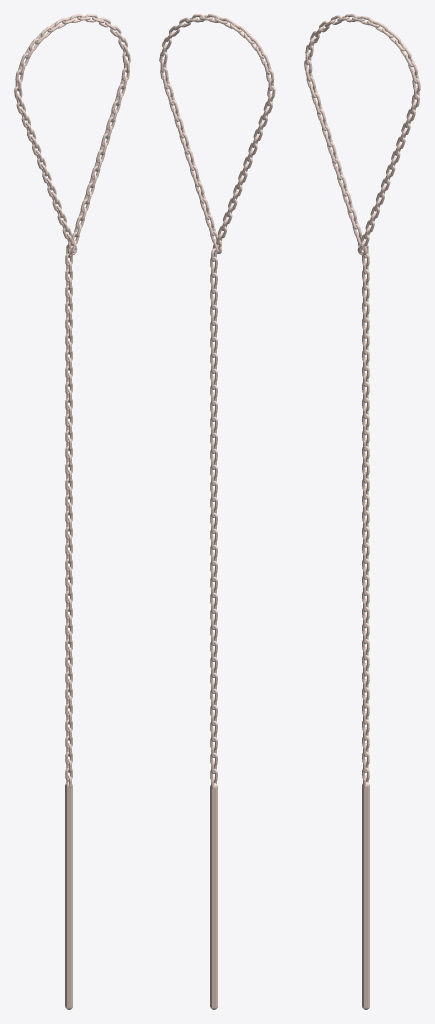
Rendered from chaine-doreille-calamity-jane.glb.
3 renders of one model, left to right at view 1: azimuth 30°, elevation 25°; view 2: azimuth 150°, elevation 25°; view 3: azimuth 330°, elevation 25°, orthographic.
Visible parts, largest first — view 1: loop; view 2: loop; view 3: loop.
Boxes of the visible parts, left/top/right/bottom form: loop: left=14, top=14, right=130, bottom=1009; loop: left=159, top=14, right=275, bottom=1009; loop: left=304, top=14, right=420, bottom=1009.
Bounding box in the file's own units: 0.0118 × 0.0964 × 0.00135.
